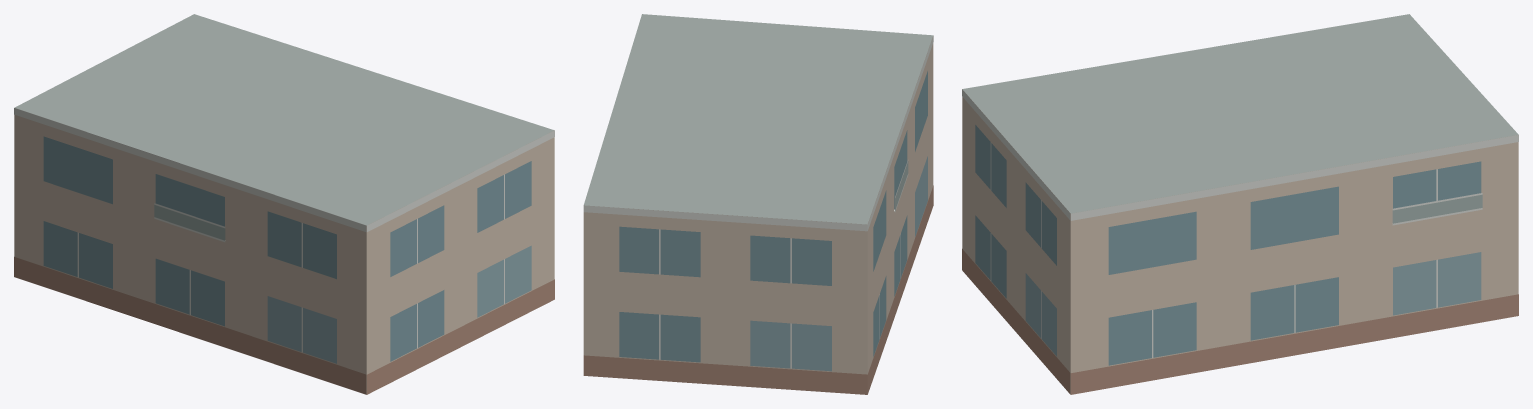
Rendered from survey-upis-32968682.glb.
The picture shows the model from 3 angles, left to right: view 1: azimuth 30°, elevation 25°; view 2: azimuth 150°, elevation 25°; view 3: azimuth 270°, elevation 25°; orthographic projection. The views are drawn at different scales.
Visible parts, largest first — view 1: survey-upis-32968682.tmp; view 2: survey-upis-32968682.tmp; view 3: survey-upis-32968682.tmp.
Part boxes in pixels (bbox=[...]): survey-upis-32968682.tmp: bbox=[14, 14, 554, 394]; survey-upis-32968682.tmp: bbox=[583, 14, 933, 394]; survey-upis-32968682.tmp: bbox=[962, 14, 1518, 394].
Size of the model in its own units: 14.43 by 6.1 by 17.
